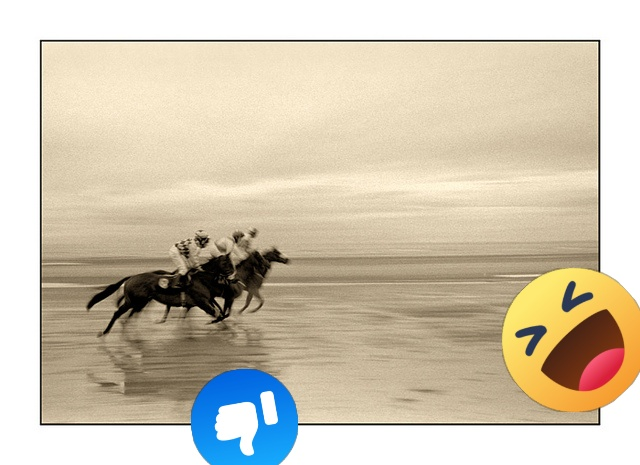haha: (502, 268, 640, 412)
like: (191, 369, 298, 465)
